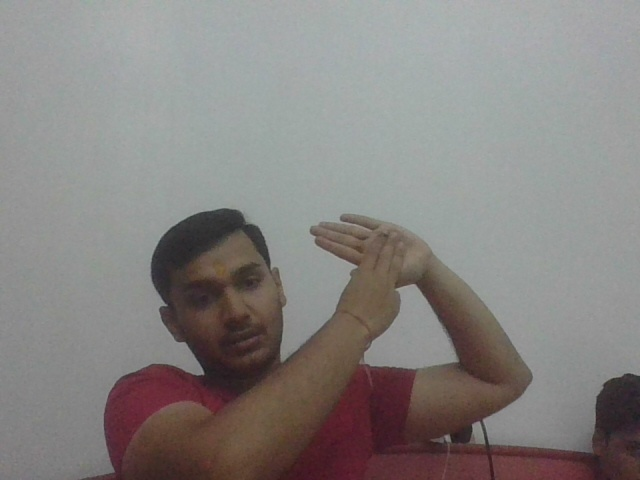M: (303, 208, 432, 311)
